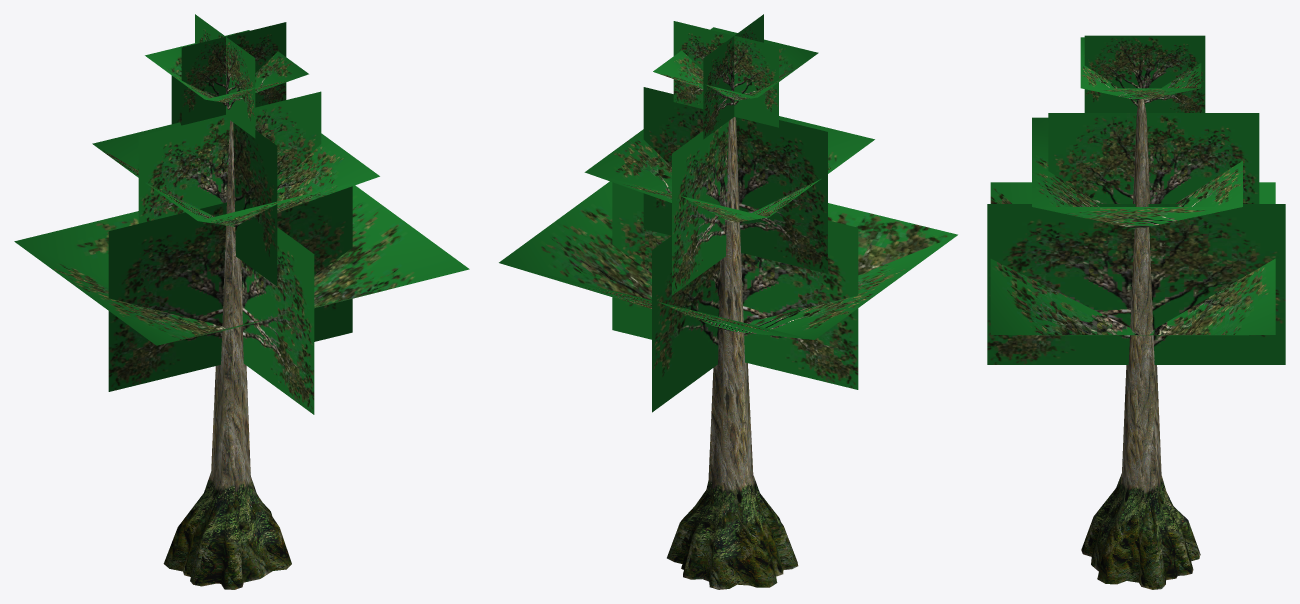
File: decd_brownflaredroots_l1.fbx
3 views of the same model, side by side, from view 1: azimuth 30°, elevation 25°; view 2: azimuth 150°, elevation 25°; view 3: azimuth 270°, elevation 25° (orthographic).
Parts seen in each view (by area): view 1: mesh_node; view 2: mesh_node; view 3: mesh_node.
Boxes of the visible parts, bbox=[...] form: mesh_node: bbox=[14, 14, 469, 589]; mesh_node: bbox=[499, 14, 957, 589]; mesh_node: bbox=[987, 35, 1285, 589].
Size of the model in its own units: 15 by 24.02 by 12.36.
